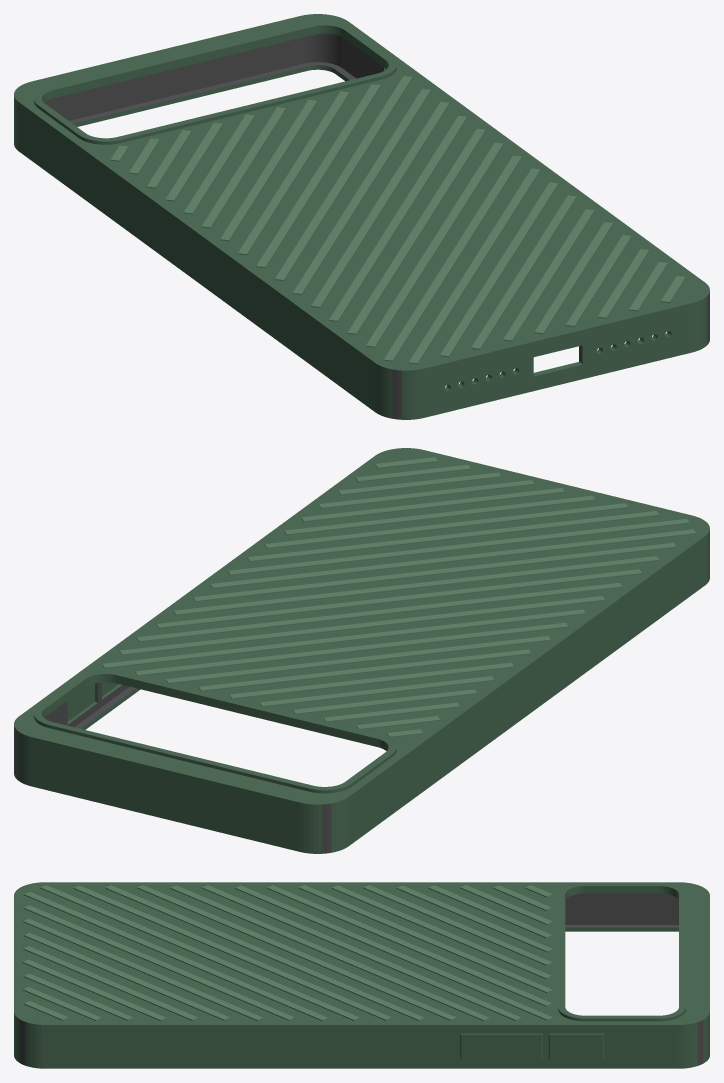
File: kilif-bar-dokuma-orman.glb
The picture shows the model from 3 angles, top to bottom: view 1: azimuth 30°, elevation 25°; view 2: azimuth 150°, elevation 25°; view 3: azimuth 270°, elevation 25°; orthographic projection. The views are drawn at different scales.
Visible parts, largest first — view 1: Kilif; view 2: Kilif; view 3: Kilif.
Boxes of the visible parts, left/top/right/bottom form: Kilif: left=14, top=14, right=709, bottom=419; Kilif: left=14, top=448, right=709, bottom=853; Kilif: left=14, top=882, right=709, bottom=1068.
Bounding box in the file's own units: 0.0774 × 0.0117 × 0.1584.
